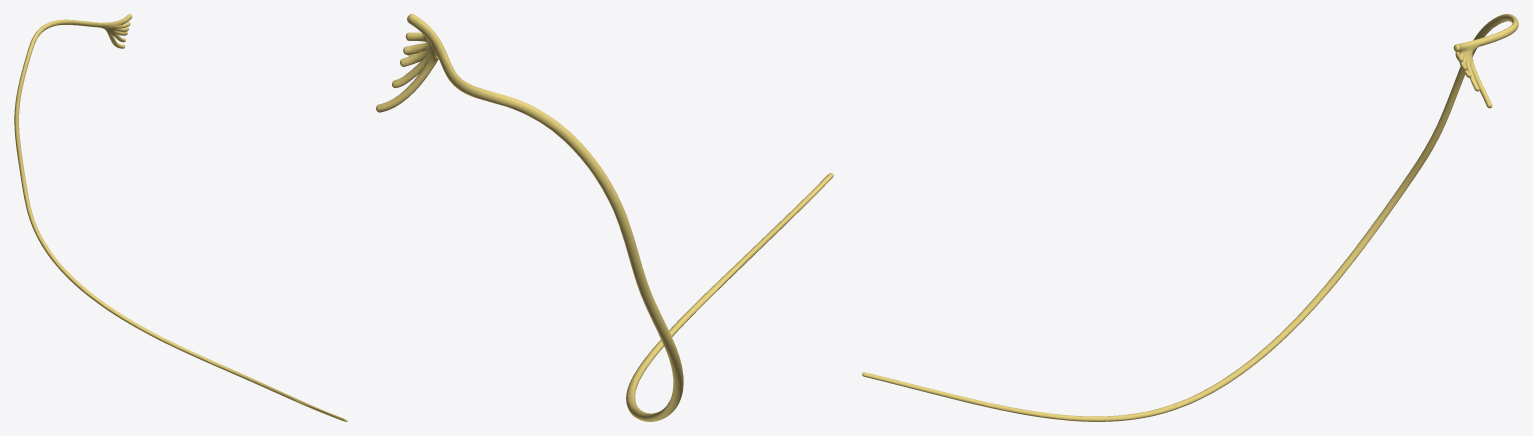
File: Trunk of right hypoglossal nerve.fbx
The picture shows the model from 3 angles, left to right: view 1: azimuth 30°, elevation 25°; view 2: azimuth 150°, elevation 25°; view 3: azimuth 270°, elevation 25°; orthographic projection. The views are drawn at different scales.
Visible parts, largest first — view 1: Trunk of right hypoglossal nerve; view 2: Trunk of right hypoglossal nerve; view 3: Trunk of right hypoglossal nerve.
Part boxes in pixels (<box>): Trunk of right hypoglossal nerve: <box>14,14,347,421</box>; Trunk of right hypoglossal nerve: <box>376,14,833,421</box>; Trunk of right hypoglossal nerve: <box>862,14,1518,421</box>.
Size of the model in its own units: 3.41 by 7.13 by 11.28.
